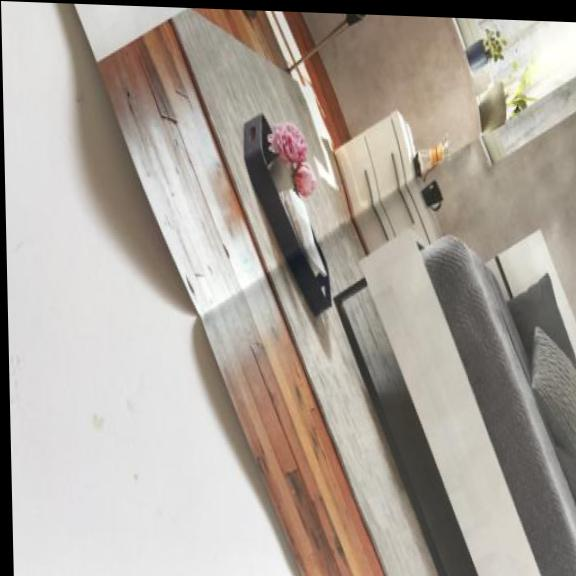Kertas: (69, 3, 576, 576)
